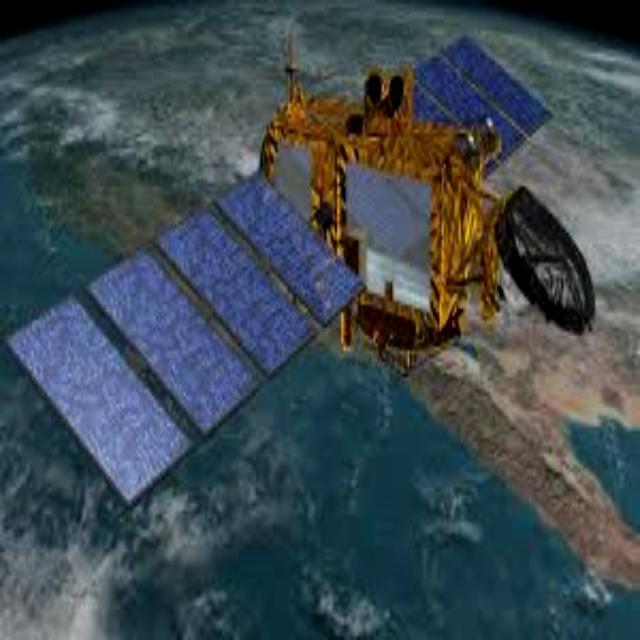medium_debris: (7, 29, 537, 496)
